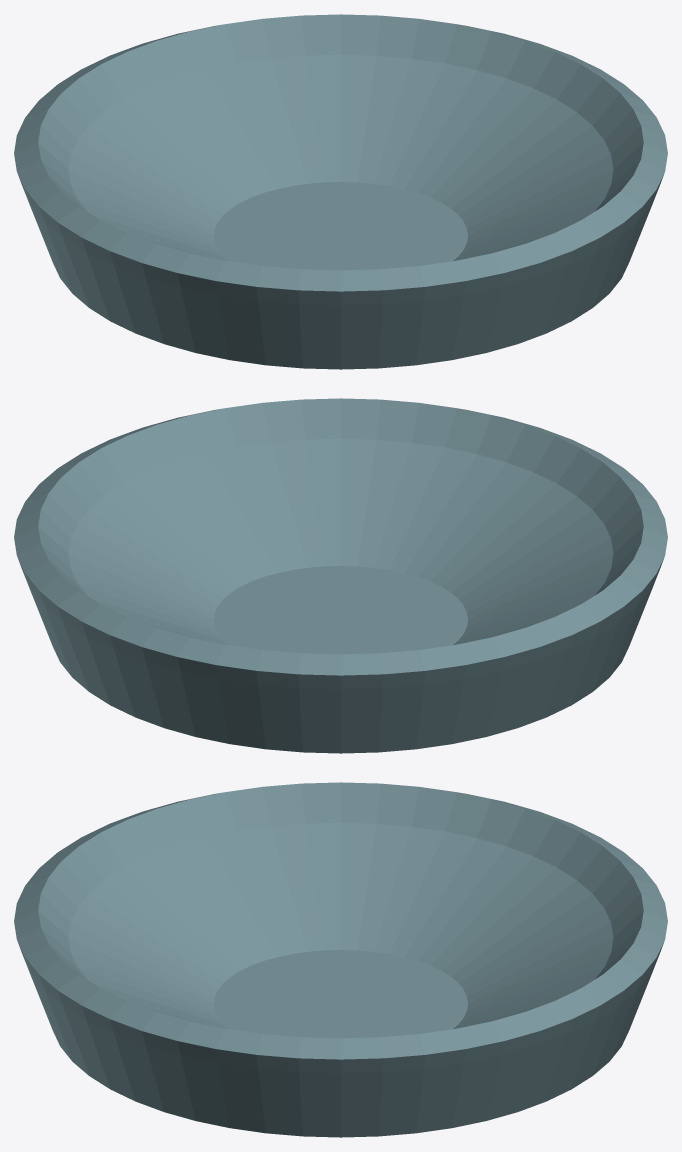
The model's file is bowl.glb.
3 renders of one model, top to bottom at view 1: azimuth 30°, elevation 25°; view 2: azimuth 150°, elevation 25°; view 3: azimuth 270°, elevation 25°, orthographic.
Parts seen in each view (by area): view 1: Institution bowl; view 2: Institution bowl; view 3: Institution bowl.
Part boxes in pixels (<box>): Institution bowl: <box>14,14,667,369</box>; Institution bowl: <box>14,398,667,753</box>; Institution bowl: <box>14,782,667,1137</box>.
Bounding box in the file's own units: 0.54 × 0.112 × 0.54.
